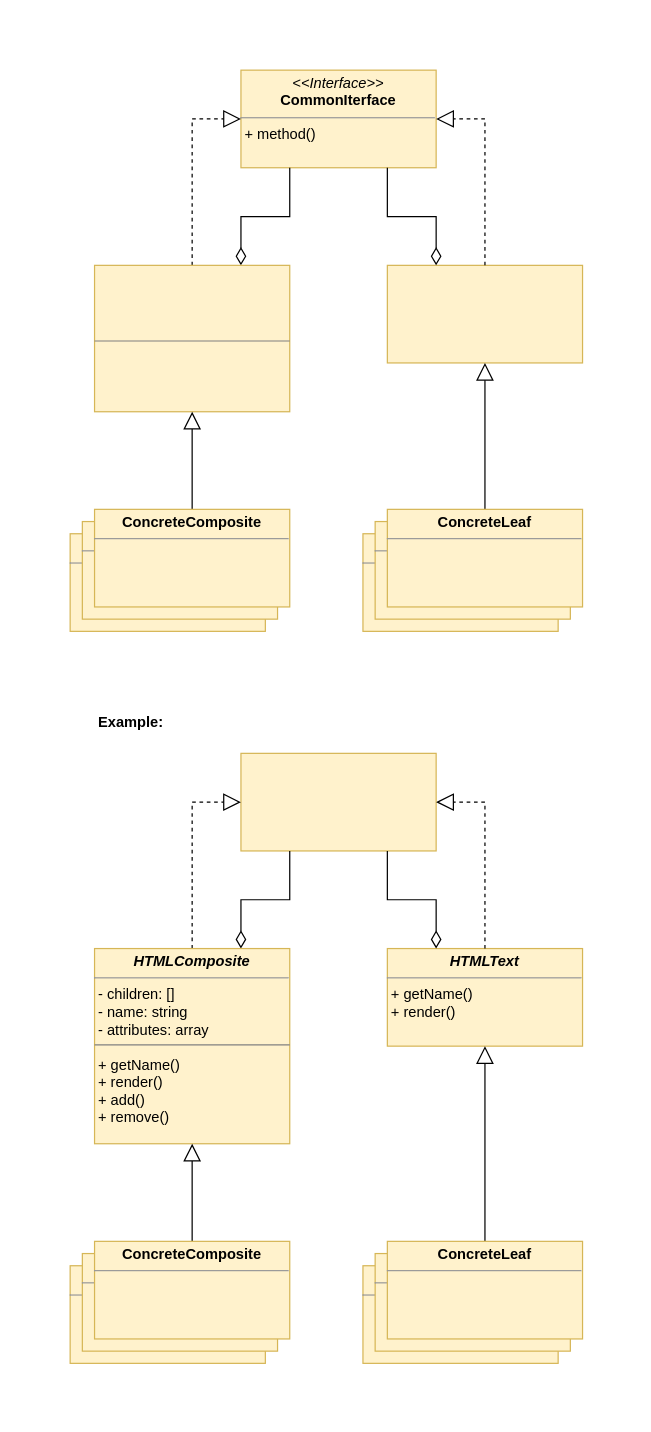
Some shapes in this 651 by 1432 pixel diagram are drawn without their labels. Each missing label, with the box of its shape:
<<Interface>> HTMLIterface + getName() + render(): (240, 752, 436, 851)
AbstractComposite - children: [] + method(): (93, 264, 290, 412)
AbstractLeaf + method(): (386, 264, 583, 363)
